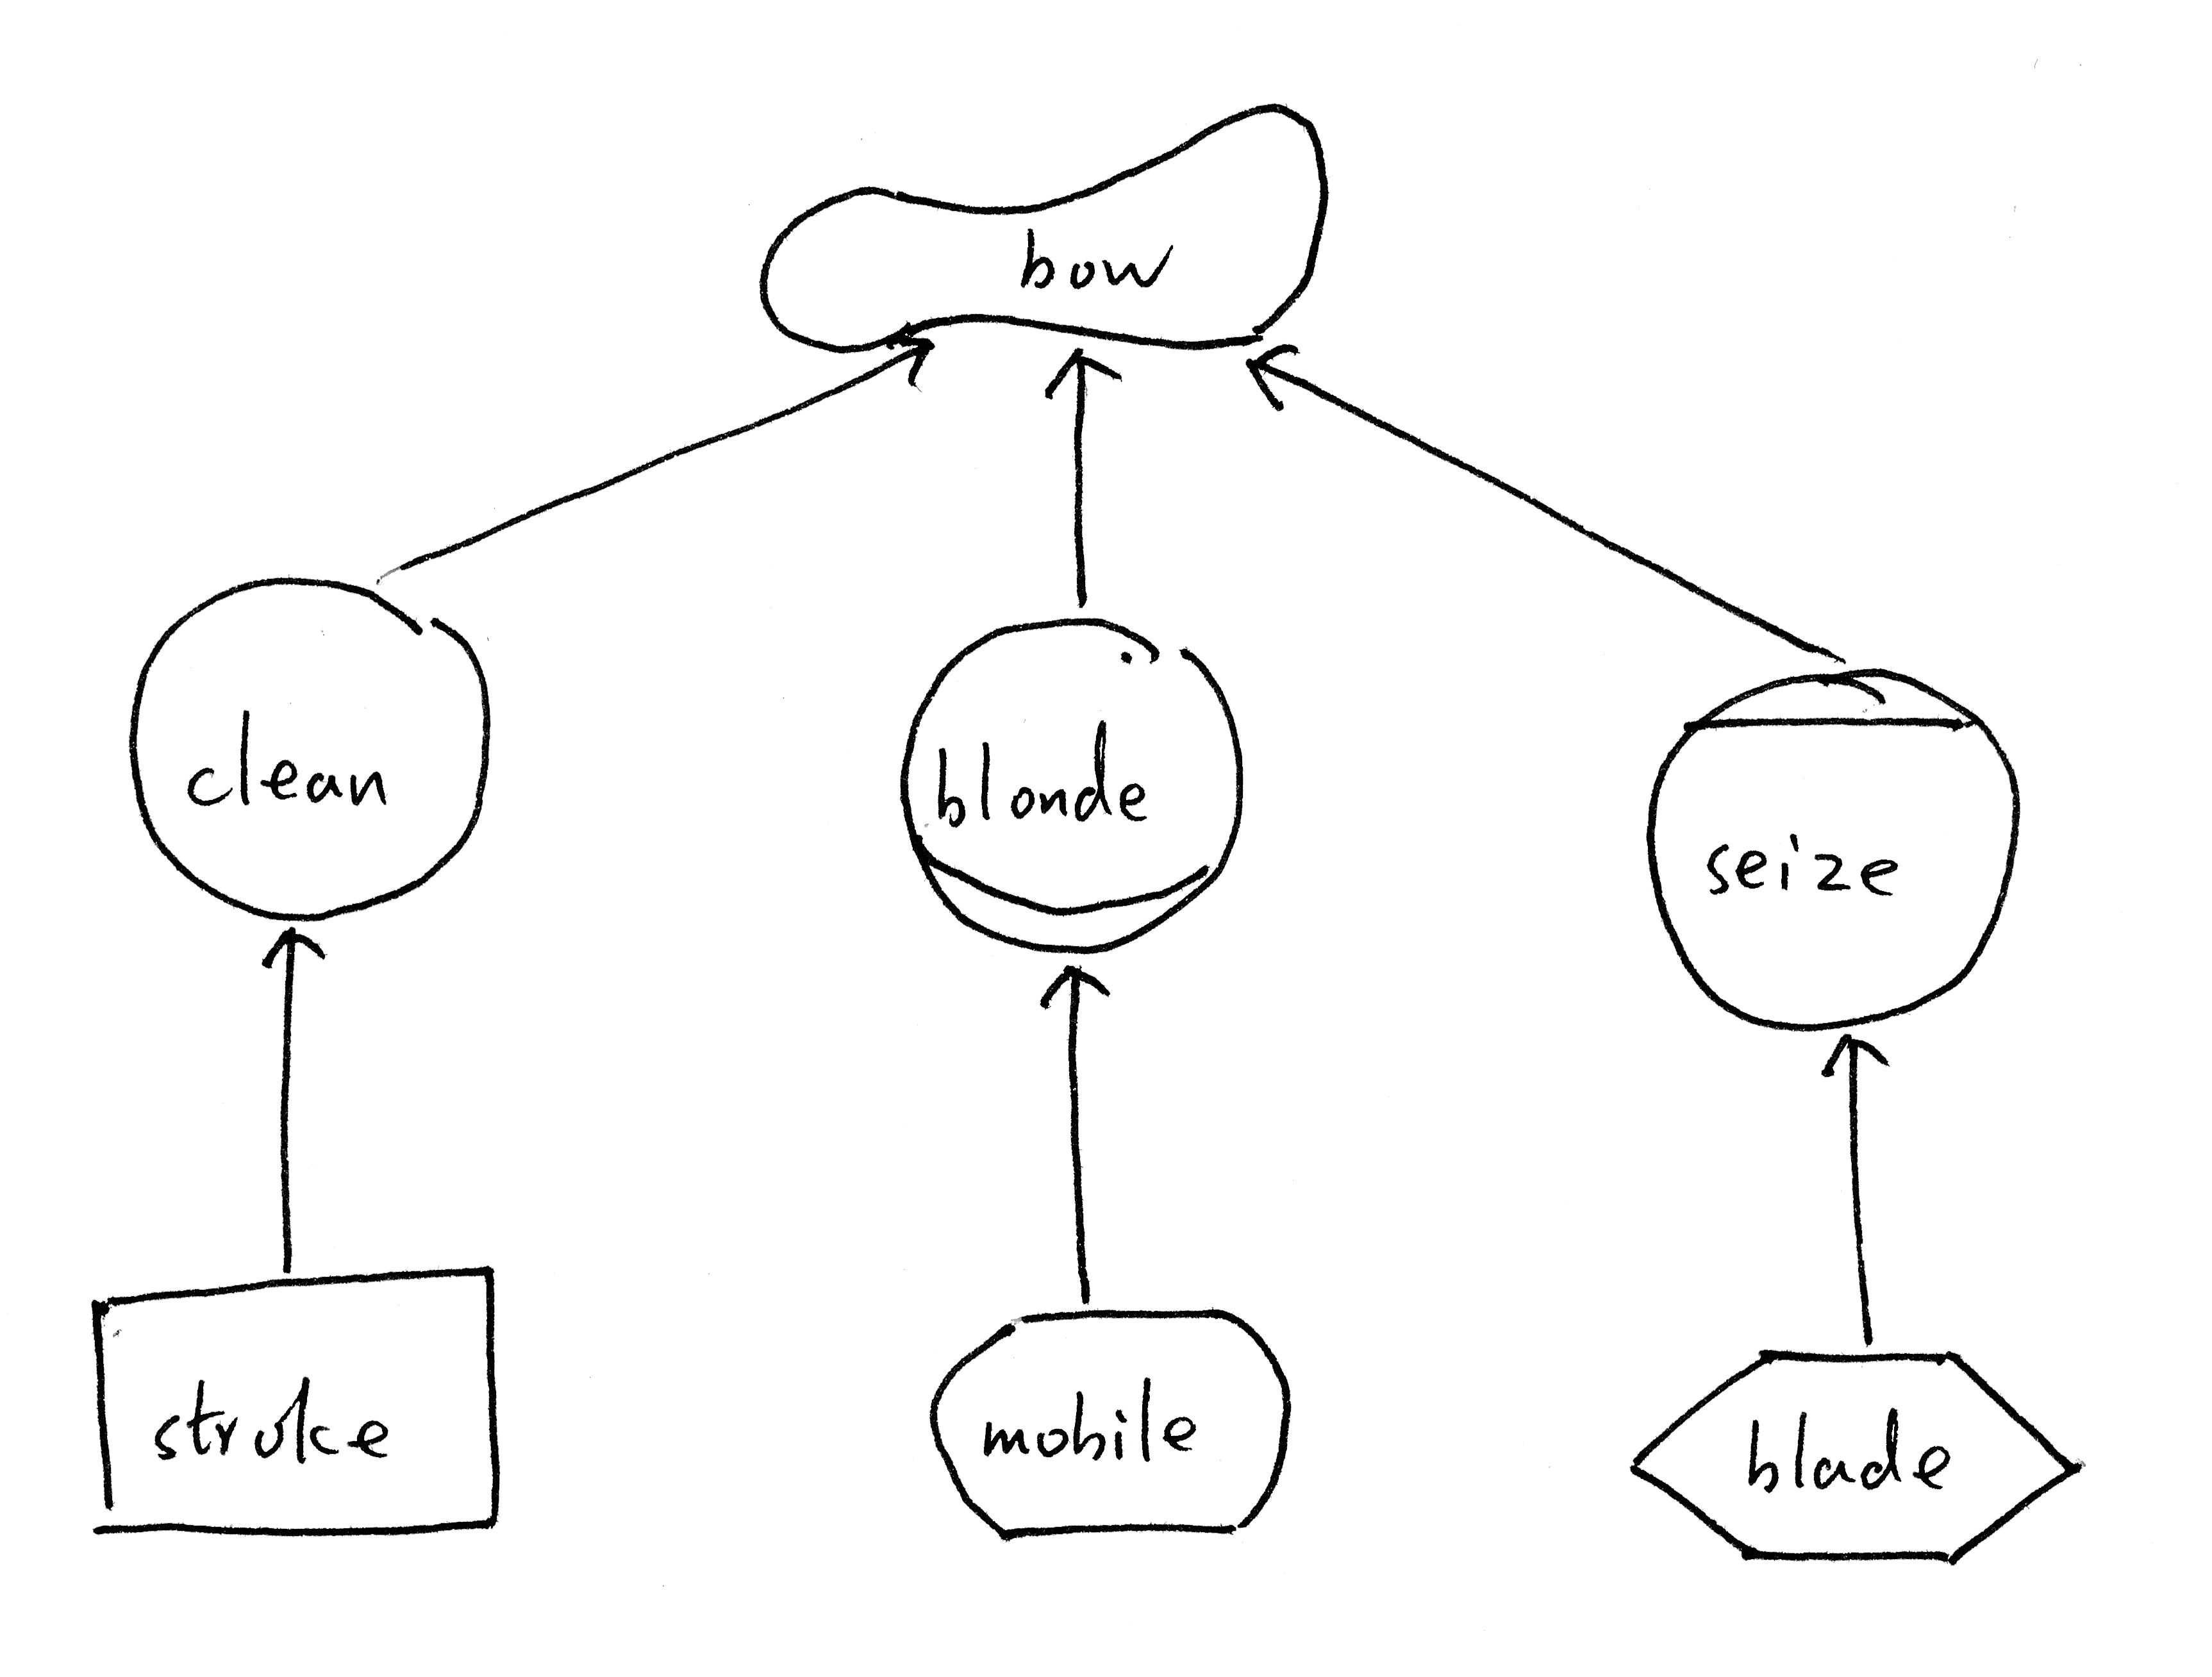actor: (106, 557, 511, 942)
agent: (1624, 650, 2043, 1050)
arrow: (1023, 948, 1136, 1032), (1036, 333, 1138, 414), (1800, 1018, 1900, 1092), (1235, 336, 1312, 426), (250, 918, 340, 981), (881, 315, 944, 395)
goal: (902, 1291, 1317, 1555)
quality: (733, 81, 1349, 386)
resource: (70, 1249, 527, 1555)
role: (879, 599, 1265, 978)
task: (1611, 1333, 2098, 1585)
